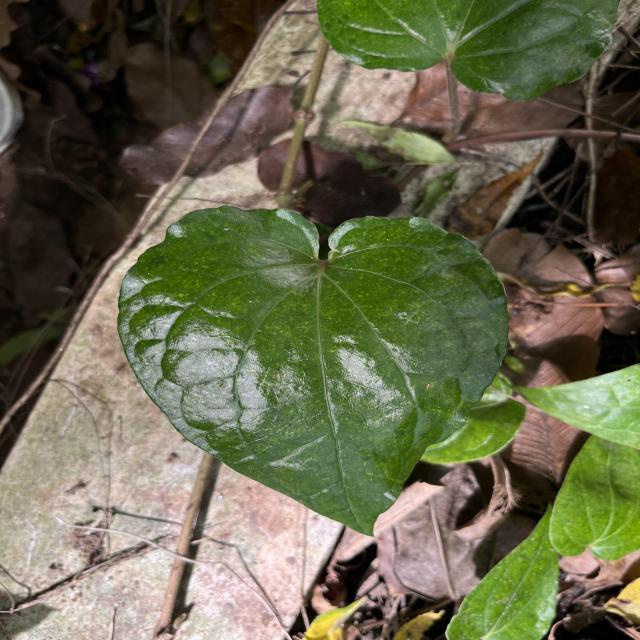Piper betle: (113, 202, 512, 540)
